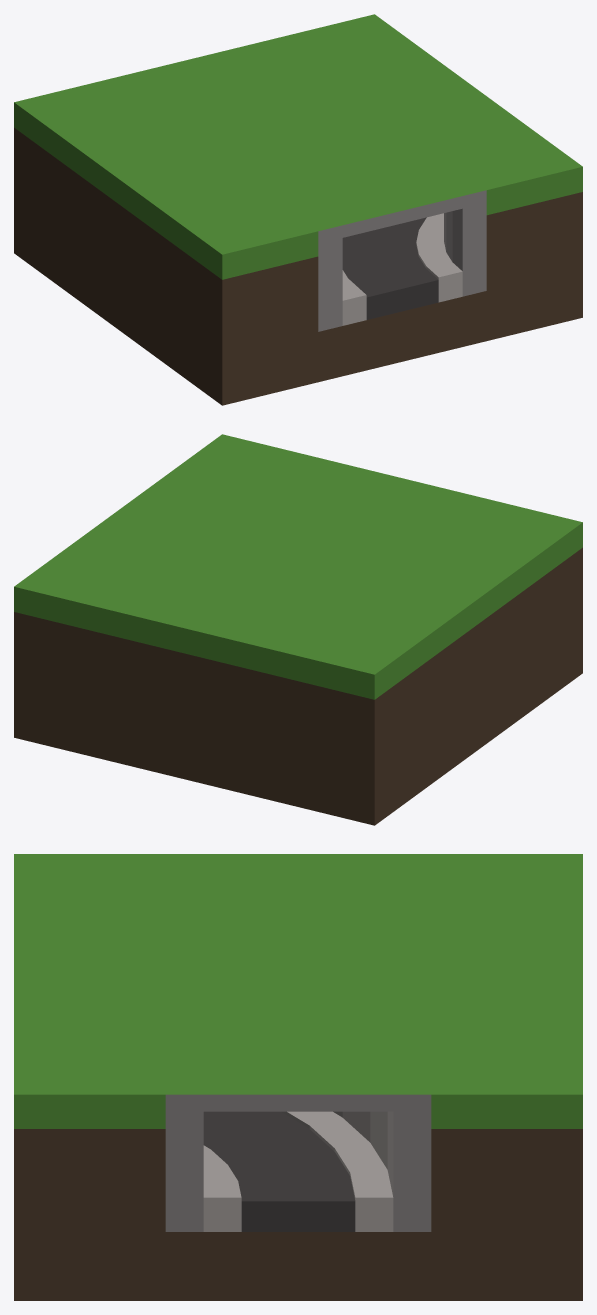
File: tiles_tile-road-tunnel-curve.fbx
3 renders of one model, top to bottom at view 1: azimuth 30°, elevation 25°; view 2: azimuth 150°, elevation 25°; view 3: azimuth 270°, elevation 25°, orthographic. The views are drawn at different scales.
Parts seen in each view (by area): view 1: tiles_tile_road_tunnel_curve; view 2: tiles_tile_road_tunnel_curve; view 3: tiles_tile_road_tunnel_curve.
Part boxes in pixels (x1,y1,x2,y2): tiles_tile_road_tunnel_curve: (14,14,582,405); tiles_tile_road_tunnel_curve: (14,434,582,825); tiles_tile_road_tunnel_curve: (14,854,582,1300).
Size of the model in its own units: 200 by 80 by 200.
